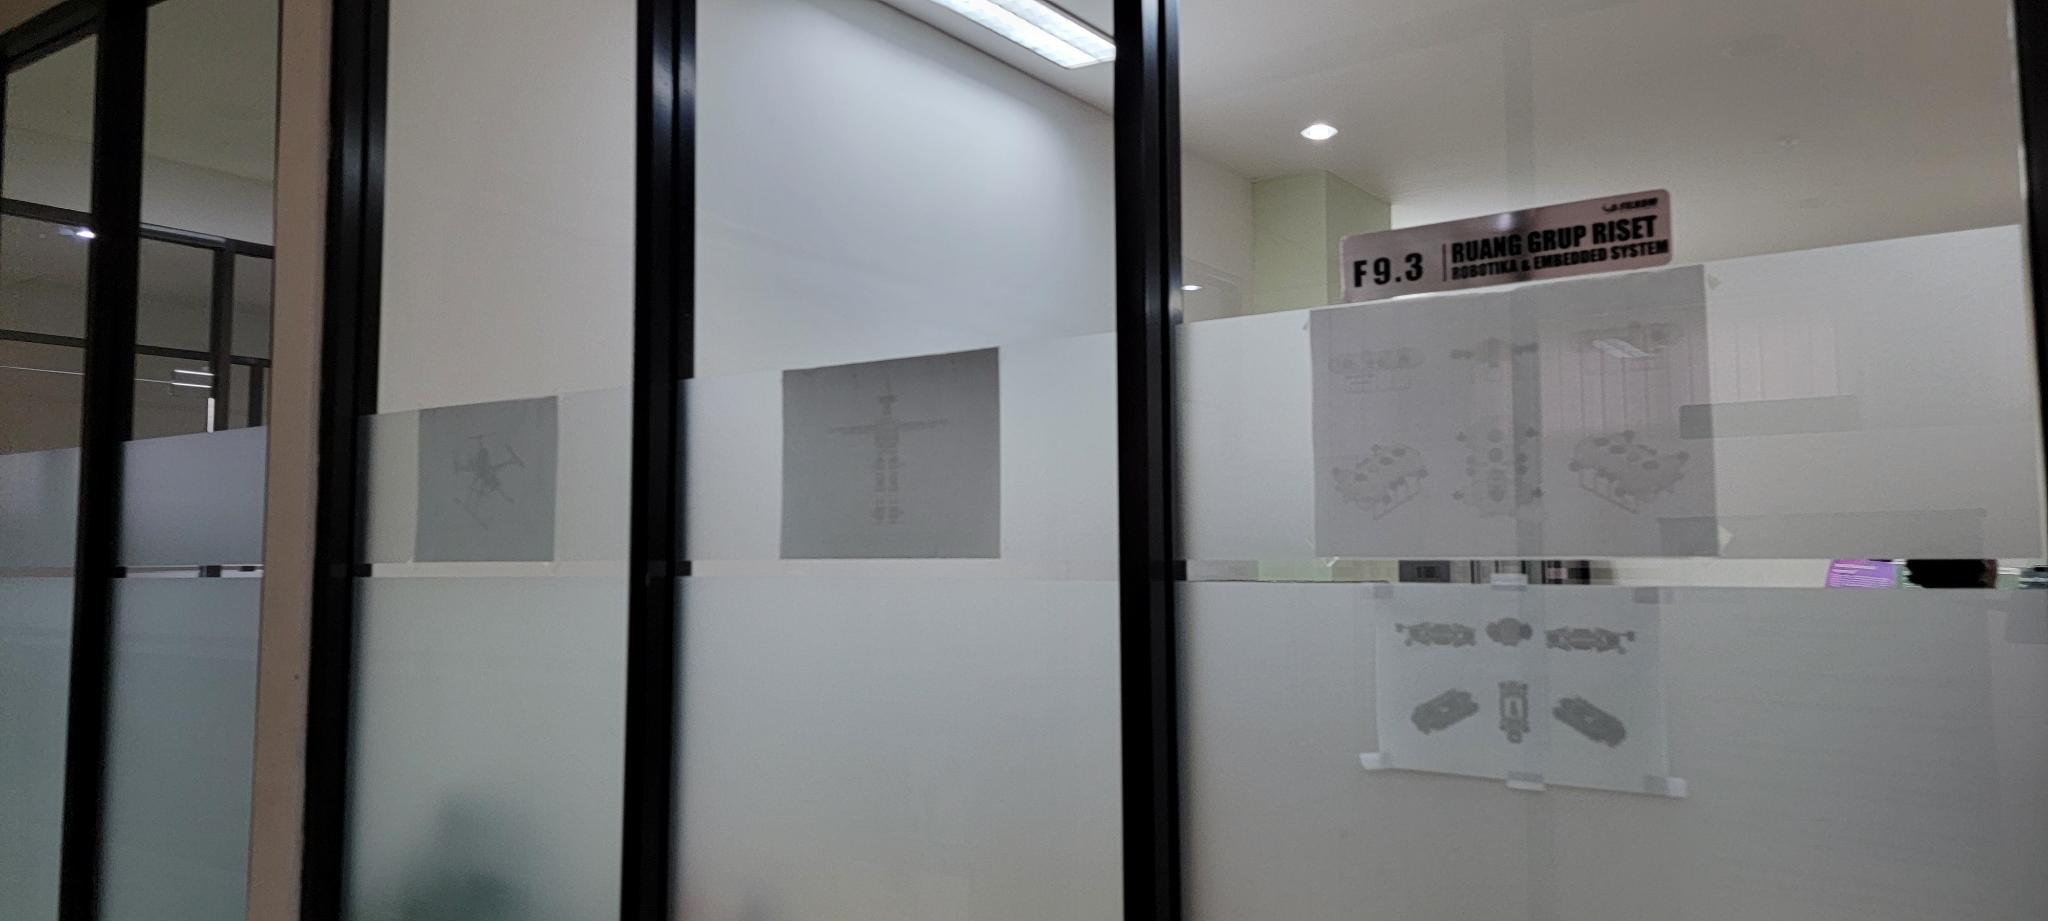plate: (1339, 187, 1676, 306)
